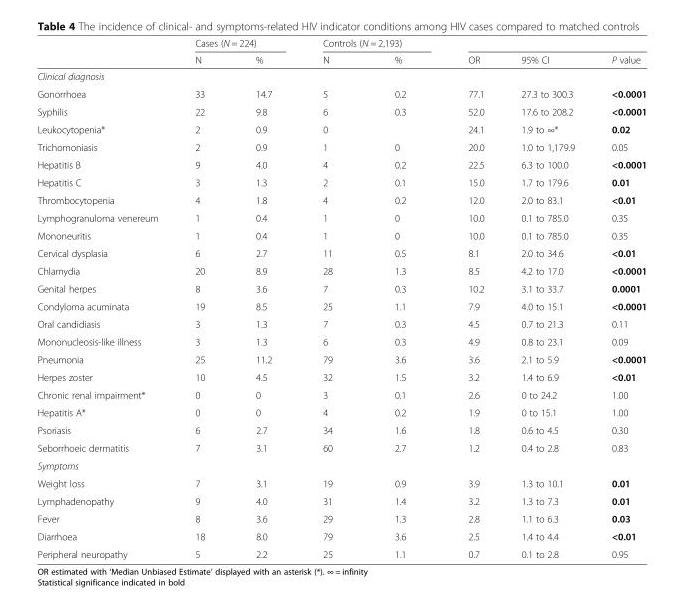table: (36, 37, 646, 559)
table column: (36, 37, 176, 559), (502, 37, 592, 559), (362, 37, 436, 559), (229, 37, 296, 559), (296, 37, 362, 559), (436, 37, 502, 559), (592, 37, 646, 559), (176, 37, 229, 559)
table column header: (36, 37, 646, 67)
table projected row header: (36, 456, 646, 474), (36, 67, 646, 84)
table row: (36, 84, 646, 102), (36, 102, 646, 120), (36, 137, 646, 155), (36, 155, 646, 173), (36, 190, 646, 208), (36, 208, 646, 226), (36, 226, 646, 244), (36, 261, 646, 279), (36, 279, 646, 297), (36, 314, 646, 332), (36, 332, 646, 350), (36, 367, 646, 385), (36, 385, 646, 403), (36, 403, 646, 421), (36, 438, 646, 456), (36, 456, 646, 474), (36, 491, 646, 509), (36, 509, 646, 527), (36, 527, 646, 545), (36, 67, 646, 84), (36, 120, 646, 137), (36, 173, 646, 190), (36, 244, 646, 261), (36, 297, 646, 314), (36, 350, 646, 367), (36, 421, 646, 438), (36, 474, 646, 491), (36, 51, 646, 67), (36, 37, 646, 51), (36, 545, 646, 559)
table spanning cell: (502, 37, 592, 67), (436, 37, 502, 67), (296, 37, 436, 51), (176, 37, 296, 51), (592, 37, 646, 67)
